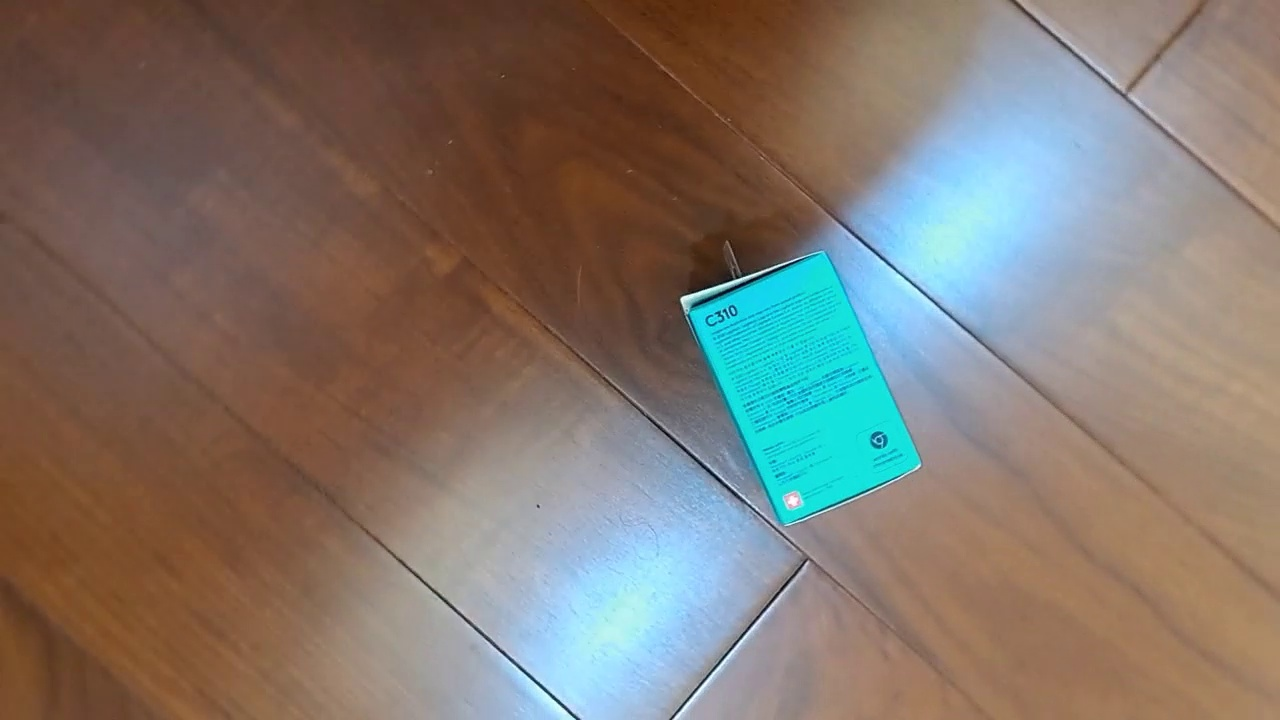webcam: (679, 249, 922, 529)
